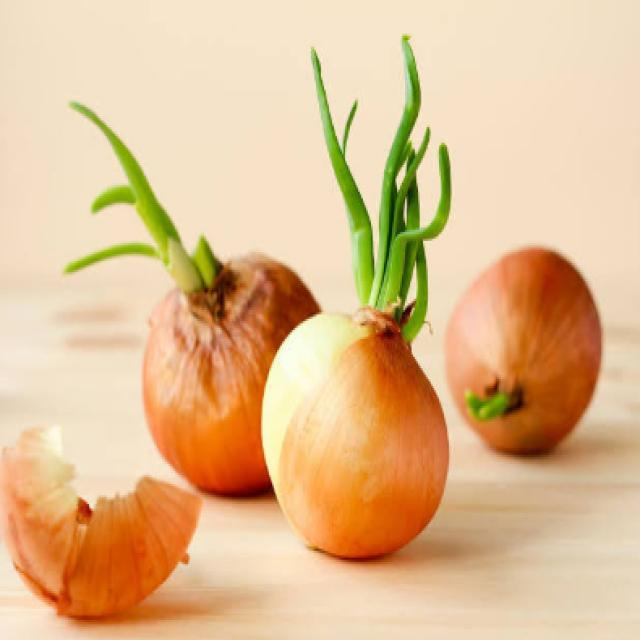sprouting: (284, 21, 450, 551)
